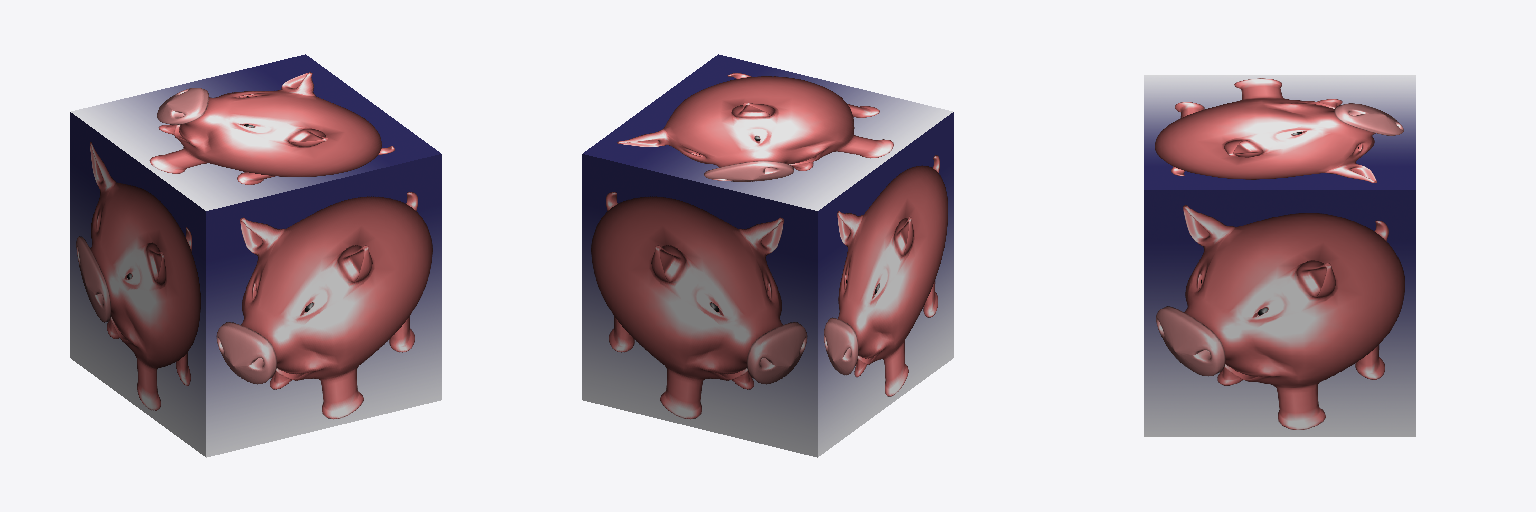
The picture shows the model from 3 angles: view 1: azimuth 30°, elevation 25°; view 2: azimuth 150°, elevation 25°; view 3: azimuth 270°, elevation 25°; orthographic projection.
Visible parts, largest first — view 1: cube; view 2: cube; view 3: cube.
Part boxes in pixels (x1,y1,x2,y2): cube: (70,54,441,457); cube: (582,54,953,457); cube: (1144,75,1415,436).
Bounding box in the file's own units: 1 × 1 × 1.
1 materials, 1 textured.